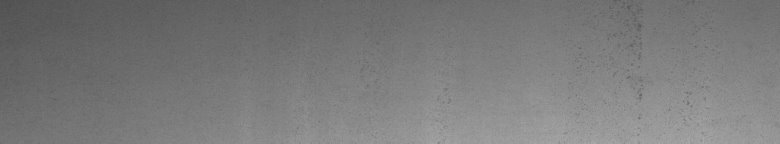ib: (627, 24, 692, 120)
